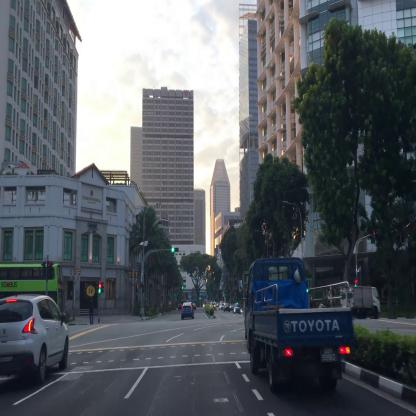green_traffic_light: (172, 248, 178, 252)
